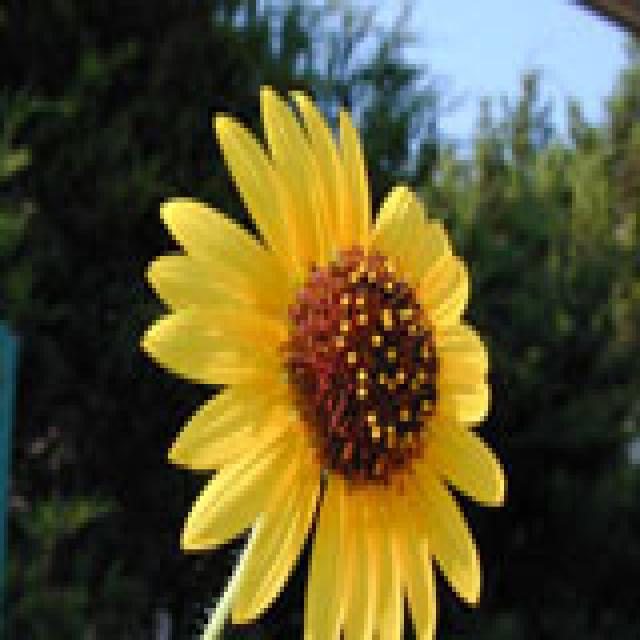sunflower: (130, 69, 514, 640)
